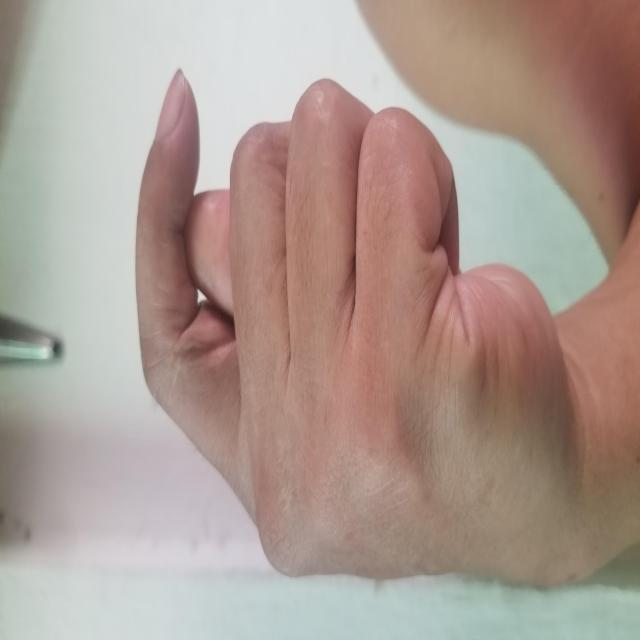T: (59, 134, 572, 566)
